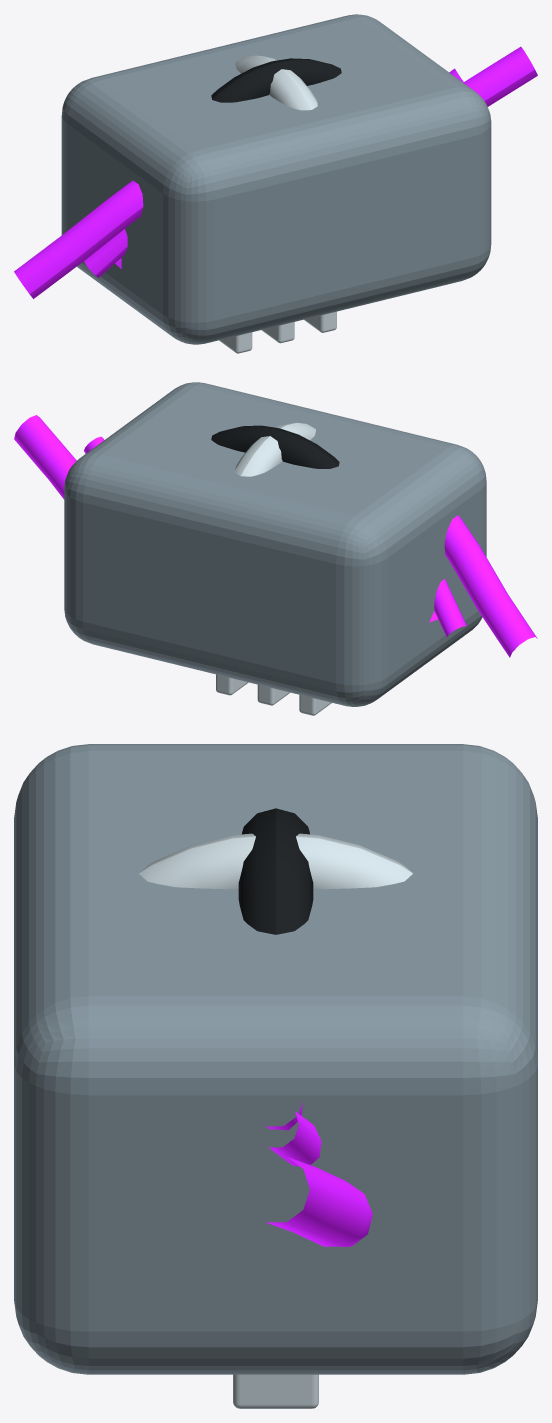
File: electrical_31.glb
3 views of the same model, one above another, from view 1: azimuth 30°, elevation 25°; view 2: azimuth 150°, elevation 25°; view 3: azimuth 270°, elevation 25° (orthographic). The views are drawn at different scales.
Parts seen in each view (by area): view 1: asset_mesh__electrical_1430__reference_body, asset_mesh__electrical_1439__current_path, asset_mesh__electrical_1444__service_element, asset_mesh__electrical_1453__functional_ring, asset_mesh__electrical_1461__current_path, asset_mesh__electrical_1454__blade_1, asset_mesh__electrical_1454__blade_2, asset_mesh__electrical_1454__blade_3; view 2: asset_mesh__electrical_1430__reference_body, asset_mesh__electrical_1439__current_path, asset_mesh__electrical_1444__service_element, asset_mesh__electrical_1453__functional_ring, asset_mesh__electrical_1461__current_path, asset_mesh__electrical_1454__blade_2, asset_mesh__electrical_1454__blade_1, asset_mesh__electrical_1454__blade_3; view 3: asset_mesh__electrical_1430__reference_body, asset_mesh__electrical_1453__functional_ring, asset_mesh__electrical_1444__service_element, asset_mesh__electrical_1439__current_path, asset_mesh__electrical_1454__blade_3, asset_mesh__electrical_1461__current_path.
Part boxes in pixels (bbox=[...]): asset_mesh__electrical_1430__reference_body: bbox=[61, 14, 491, 344]; asset_mesh__electrical_1439__current_path: bbox=[14, 46, 537, 298]; asset_mesh__electrical_1444__service_element: bbox=[211, 58, 341, 102]; asset_mesh__electrical_1453__functional_ring: bbox=[235, 55, 317, 110]; asset_mesh__electrical_1461__current_path: bbox=[84, 68, 464, 277]; asset_mesh__electrical_1454__blade_1: bbox=[219, 332, 252, 353]; asset_mesh__electrical_1454__blade_2: bbox=[261, 322, 294, 343]; asset_mesh__electrical_1454__blade_3: bbox=[304, 311, 336, 332]; asset_mesh__electrical_1430__reference_body: bbox=[64, 382, 486, 706]; asset_mesh__electrical_1439__current_path: bbox=[14, 415, 537, 657]; asset_mesh__electrical_1444__service_element: bbox=[211, 425, 339, 468]; asset_mesh__electrical_1453__functional_ring: bbox=[235, 422, 315, 476]; asset_mesh__electrical_1461__current_path: bbox=[84, 436, 467, 636]; asset_mesh__electrical_1454__blade_2: bbox=[257, 684, 289, 705]; asset_mesh__electrical_1454__blade_1: bbox=[299, 695, 331, 715]; asset_mesh__electrical_1454__blade_3: bbox=[216, 674, 248, 695]; asset_mesh__electrical_1430__reference_body: bbox=[14, 744, 537, 1374]; asset_mesh__electrical_1453__functional_ring: bbox=[139, 833, 412, 889]; asset_mesh__electrical_1444__service_element: bbox=[238, 808, 313, 934]; asset_mesh__electrical_1439__current_path: bbox=[266, 1157, 372, 1246]; asset_mesh__electrical_1454__blade_3: bbox=[233, 1374, 318, 1408]; asset_mesh__electrical_1461__current_path: bbox=[269, 1111, 321, 1166].
Size of the model in its own units: 1.73 by 0.8653 by 0.7728.
